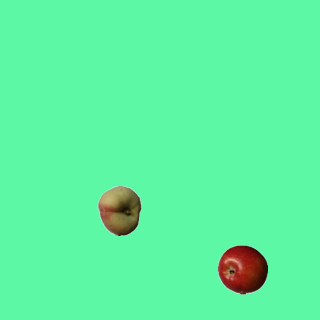Apple Braeburn: (217, 244, 267, 294)
Peach Flat: (94, 185, 144, 235)
